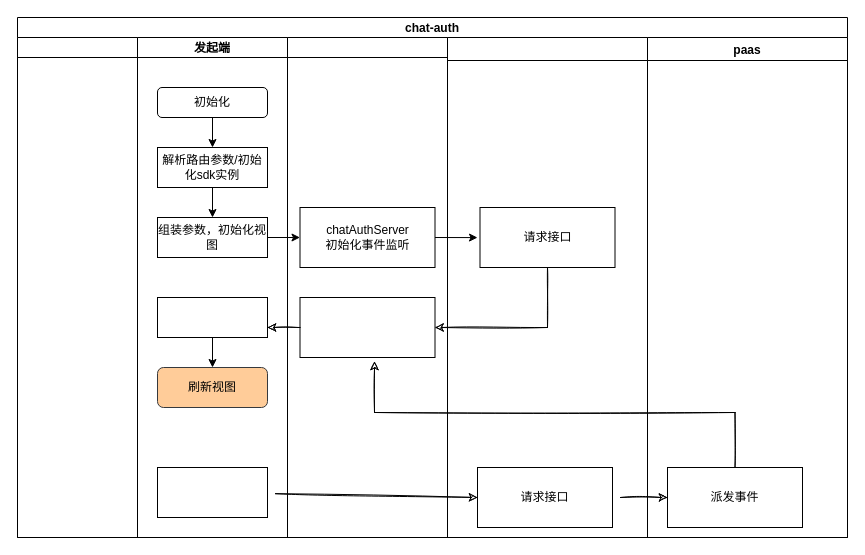
The diagram is 865 pixels wide and 555 high, and some of its shapes have lost their labels. The box of each missing label's shape, as (x1, y1, x2, y2) in pixels:
chatAuthServer 处理数据: (299, 296, 435, 358)
sdk: (286, 36, 448, 538)
后端: (446, 36, 648, 538)
数据更新: (156, 296, 268, 338)
管理员操作（如通过，回复，禁言等）: (156, 466, 268, 518)
观看端: (16, 36, 138, 538)
